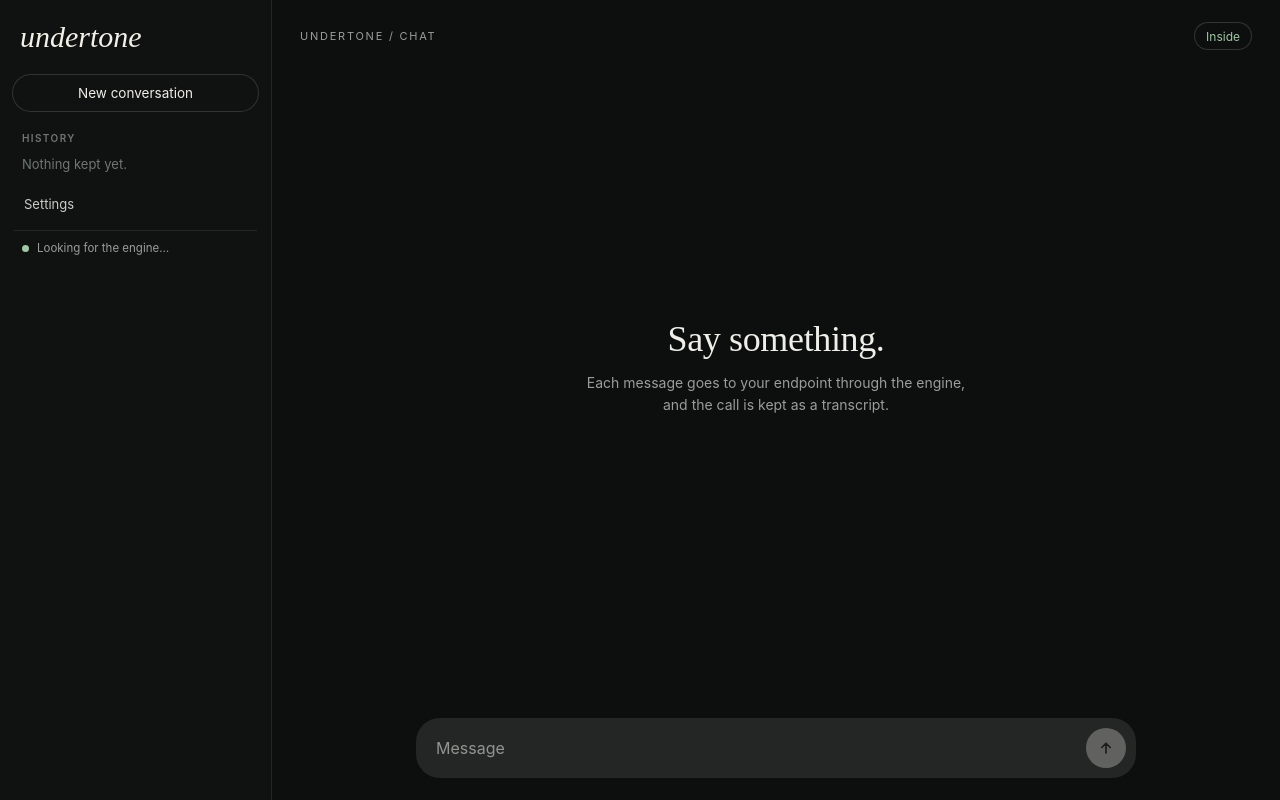
Test: the settings page › says how to start the readings server when it is not answering
This screenshot has width=1280, height=800.
Click the button "Settings" at (136, 204), box [14, 188, 257, 220]
(page scrolled)
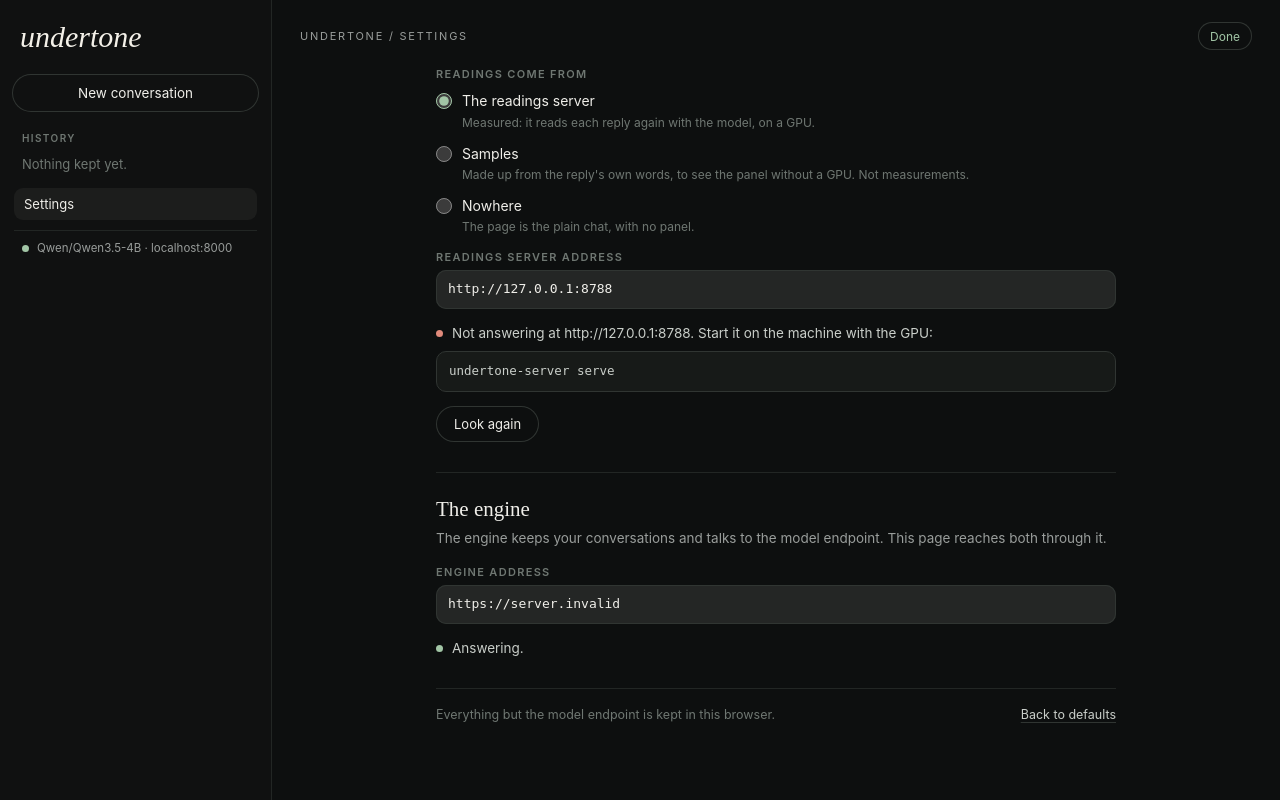
Check: the message "Not answering at http://127.0.0.1:8788. Start it on the machine with the GPU:" is shown, box [436, 325, 933, 341]
Check: the element "Readings" shows "undertone-server serve", box [449, 363, 615, 378]
Check: the button "Look again" is shown, box [436, 406, 539, 442]
